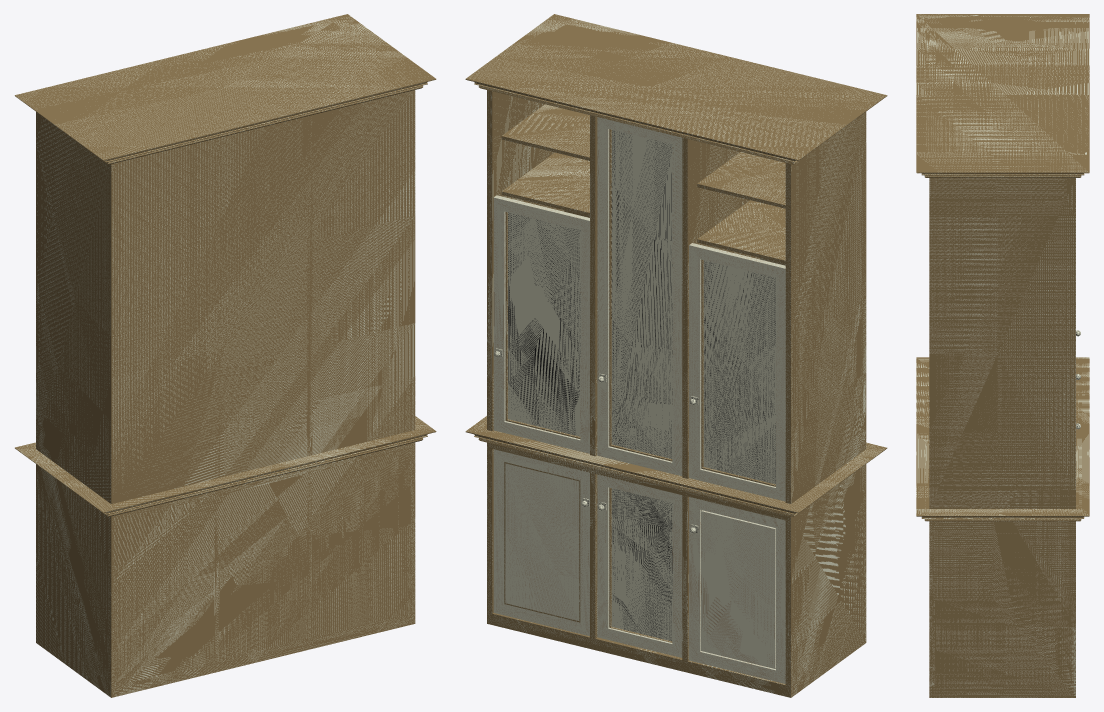
3 views of the same model, side by side, from view 1: azimuth 30°, elevation 25°; view 2: azimuth 150°, elevation 25°; view 3: azimuth 270°, elevation 25° (orthographic). The views are drawn at different scales.
Parts seen in each view (by area): view 1: mesh7_mesh7-geometry, mesh1_mesh1-geometry, mesh3_mesh3-geometry, mesh2_mesh2-geometry, mesh6_mesh6-geometry, mesh12_mesh12-geometry, mesh26_mesh26-geometry, mesh27_mesh27-geometry; view 2: mesh7_mesh7-geometry, mesh3_mesh3-geometry, mesh17_mesh17-geometry, mesh11_mesh11-geometry, mesh23_mesh23-geometry, mesh1_mesh1-geometry, mesh5_mesh5-geometry, mesh4_mesh4-geometry, mesh24_mesh24-geometry, mesh2_mesh2-geometry, mesh6_mesh6-geometry, mesh18_mesh18-geometry (+6 smaller); view 3: mesh7_mesh7-geometry, mesh3_mesh3-geometry, mesh1_mesh1-geometry, mesh2_mesh2-geometry.
Boxes of the visible parts, bbox=[...] form: mesh7_mesh7-geometry: bbox=[36, 90, 415, 503]; mesh1_mesh1-geometry: bbox=[36, 442, 415, 697]; mesh3_mesh3-geometry: bbox=[14, 14, 436, 164]; mesh2_mesh2-geometry: bbox=[15, 416, 436, 516]; mesh6_mesh6-geometry: bbox=[214, 138, 219, 478]; mesh12_mesh12-geometry: bbox=[307, 115, 312, 456]; mesh26_mesh26-geometry: bbox=[307, 473, 312, 637]; mesh27_mesh27-geometry: bbox=[214, 497, 219, 661]; mesh7_mesh7-geometry: bbox=[487, 90, 866, 503]; mesh3_mesh3-geometry: bbox=[465, 14, 887, 164]; mesh17_mesh17-geometry: bbox=[597, 117, 682, 476]; mesh11_mesh11-geometry: bbox=[689, 243, 785, 501]; mesh23_mesh23-geometry: bbox=[493, 195, 589, 453]; mesh1_mesh1-geometry: bbox=[487, 442, 866, 697]; mesh5_mesh5-geometry: bbox=[689, 497, 785, 683]; mesh4_mesh4-geometry: bbox=[493, 449, 589, 636]; mesh24_mesh24-geometry: bbox=[597, 474, 682, 657]; mesh2_mesh2-geometry: bbox=[465, 416, 887, 517]; mesh6_mesh6-geometry: bbox=[682, 138, 759, 478]; mesh18_mesh18-geometry: bbox=[697, 200, 785, 263]; mesh7_mesh7-geometry: bbox=[929, 178, 1075, 508]; mesh3_mesh3-geometry: bbox=[916, 14, 1089, 177]; mesh1_mesh1-geometry: bbox=[929, 521, 1075, 697]; mesh2_mesh2-geometry: bbox=[916, 357, 1089, 521].
Size of the model in its own units: 0.5223 by 0.8179 by 0.2411.
